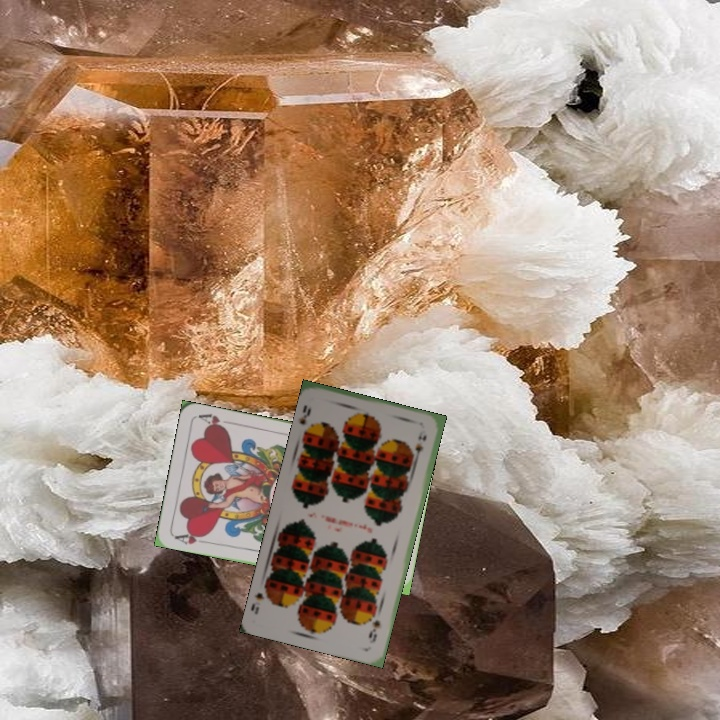HA: (170, 527, 209, 547)
S9: (295, 401, 315, 437), (365, 616, 383, 646)
